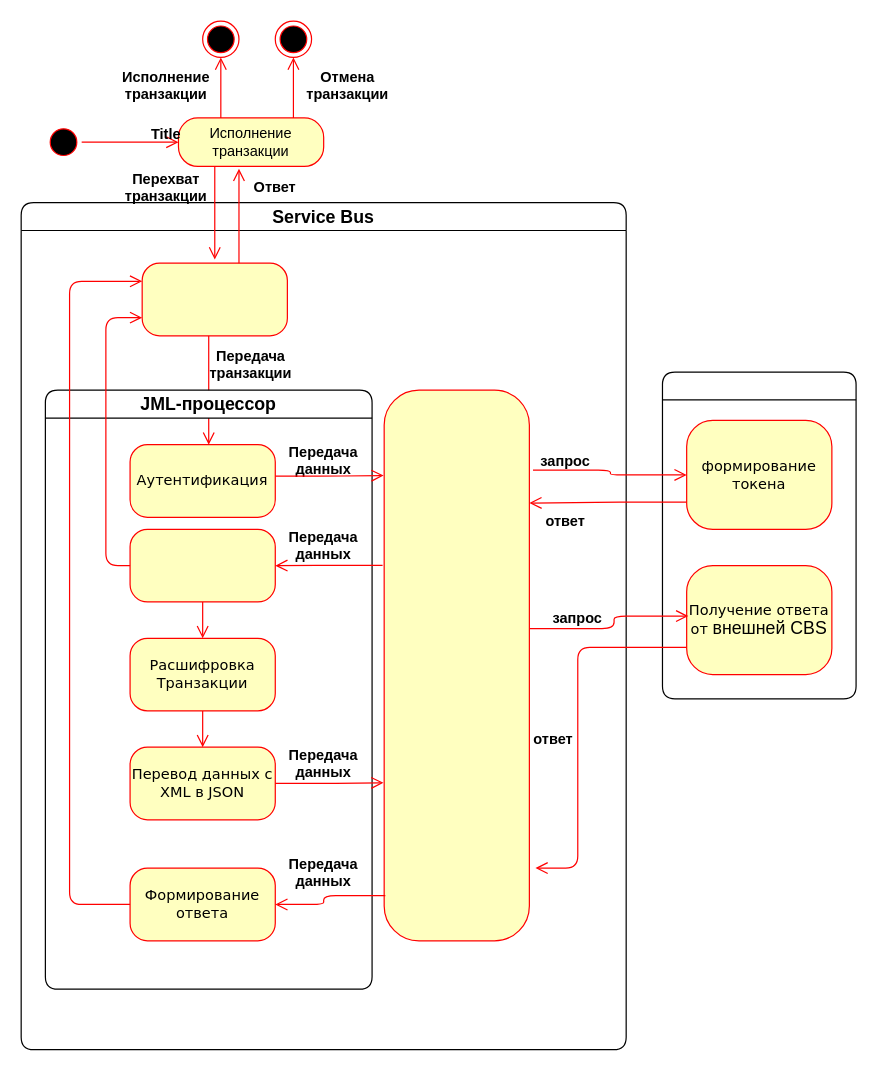
The diagram is 877 pixels wide and 1071 high, and some of its shapes have lost their labels. Here are the shapes that lost their labels. From the top down, the box of each, then its label:
(141, 262, 287, 336): Входное звено RTP Outgoing
(661, 371, 856, 699): JSON-API
(129, 528, 275, 602): Получение токена
(383, 389, 529, 941): Сетевой канал – клиент
